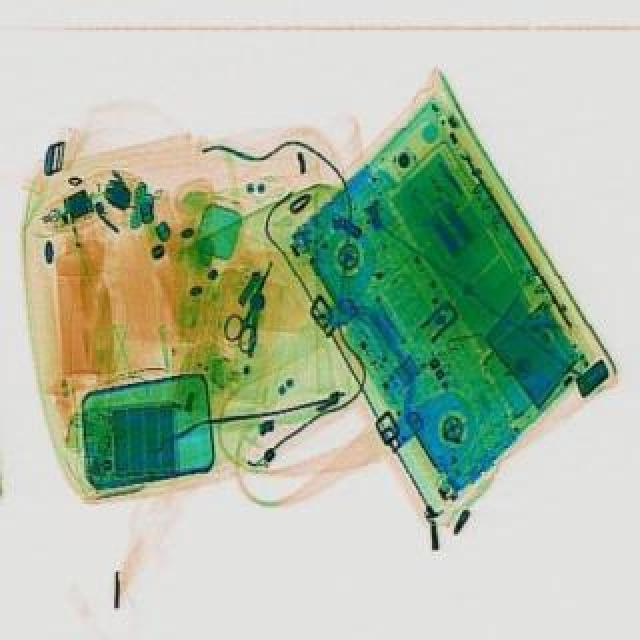pliers: (214, 248, 292, 352)
